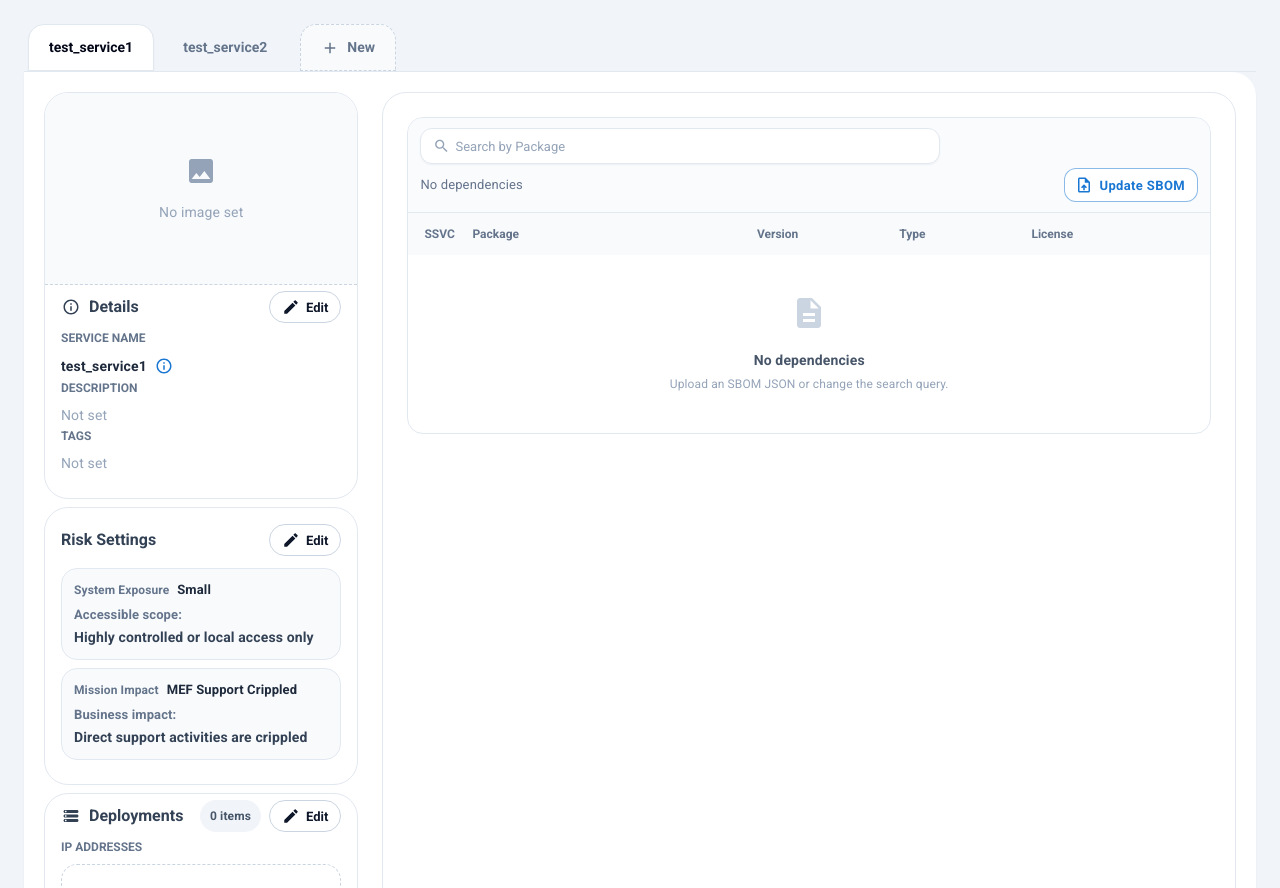
Test: StatusPage › renders SBOM registration state › keeps the tab UI visible while the selected service details are unresolved
This screenshot has width=1280, height=888.
Click the button "test_service2" at {"x": 225, "y": 48}, box [162, 24, 288, 71]
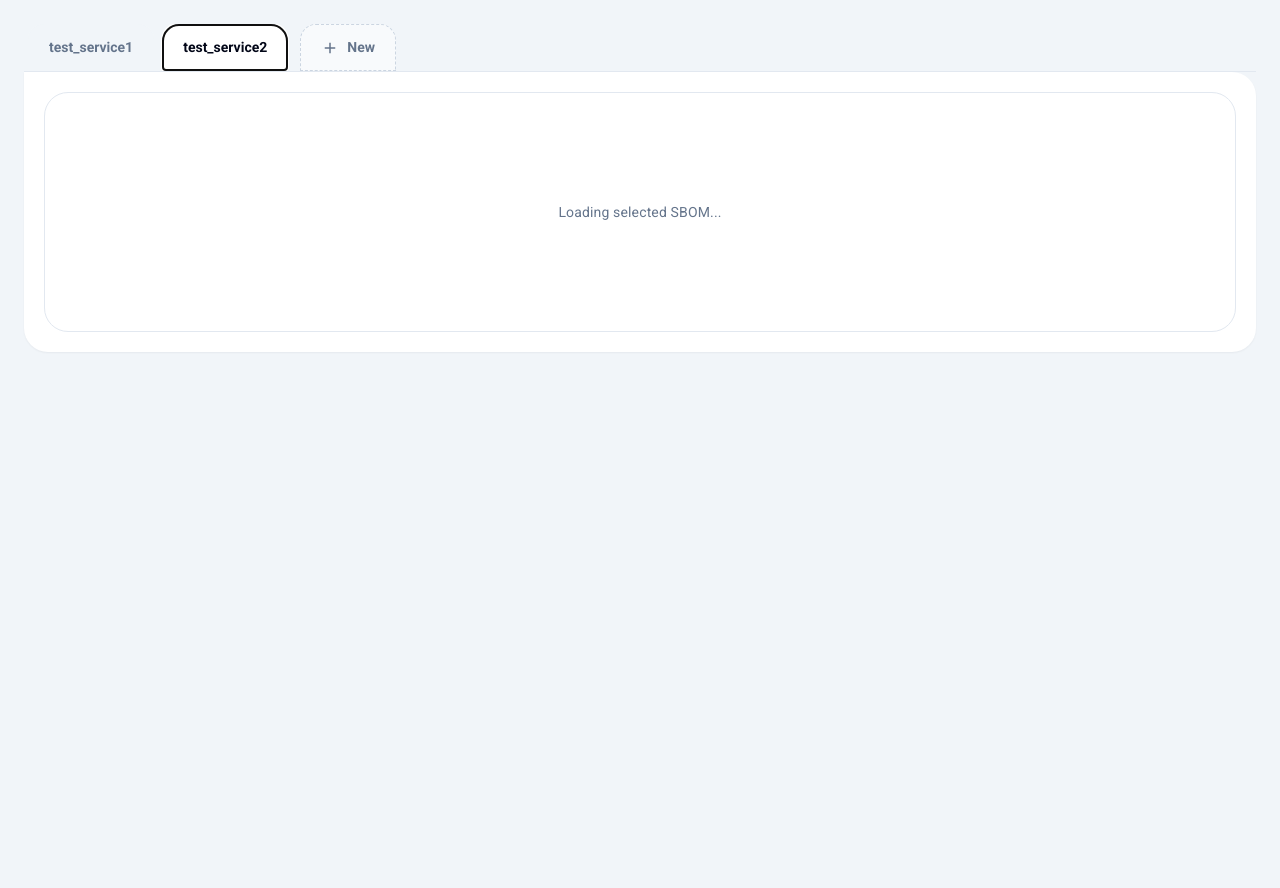
Expected: the button "test_service1" is shown, [28, 24, 154, 71]
Result: the text "Loading selected SBOM..." is shown at [44, 92, 1236, 332]
